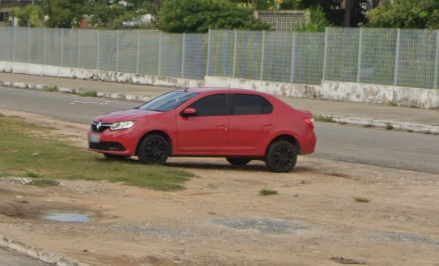car: (86, 77, 320, 183)
